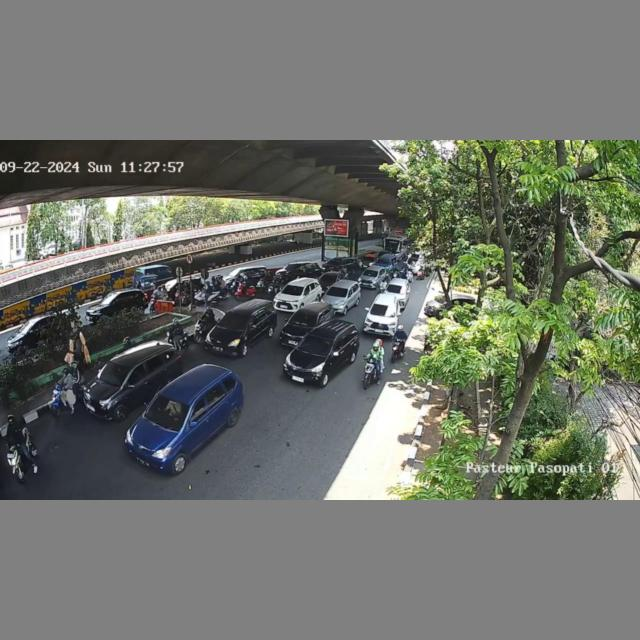windshield: (143, 396, 193, 432), (93, 359, 134, 386), (299, 334, 334, 358), (217, 312, 249, 329), (369, 303, 398, 320), (289, 311, 320, 325), (282, 285, 303, 296), (326, 288, 349, 297), (387, 284, 406, 294), (362, 270, 378, 277)
